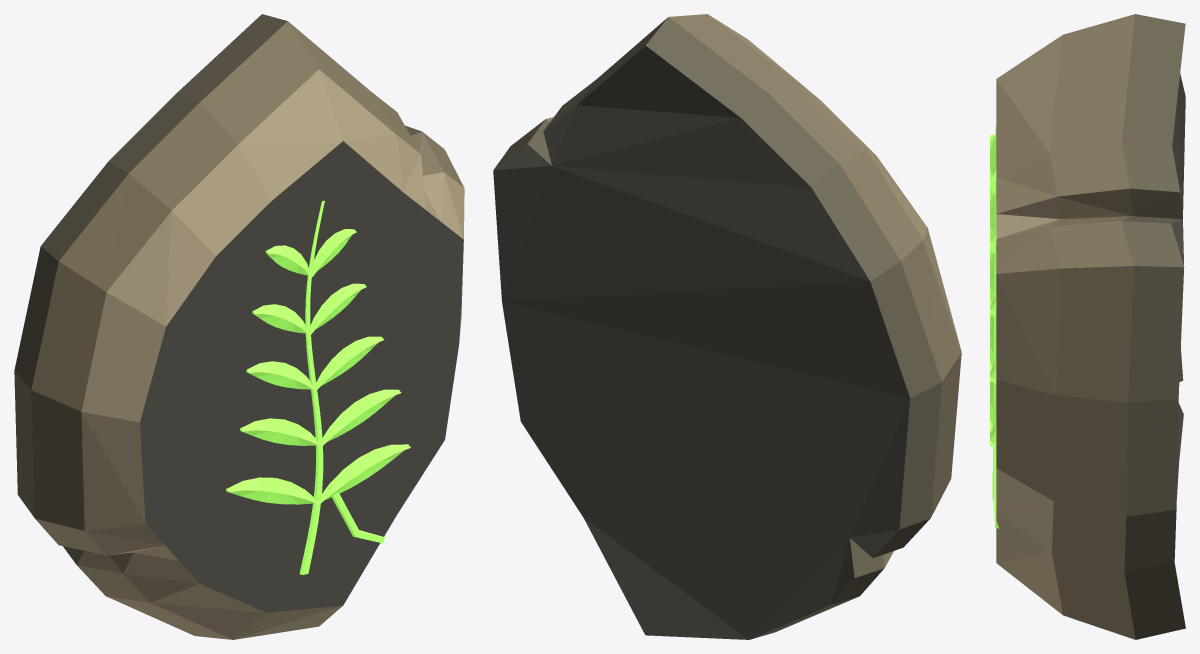
File: FERNSTONE_GREEN.hi.glb
3 renders of one model, left to right at view 1: azimuth 30°, elevation 25°; view 2: azimuth 150°, elevation 25°; view 3: azimuth 270°, elevation 25°, orthographic. The views are drawn at different scales.
Visible parts, largest first — view 1: Body_Mesh; view 2: Body_Mesh; view 3: Body_Mesh.
Part boxes in pixels (x1,y1,x2,y2): Body_Mesh: (14, 14, 464, 639); Body_Mesh: (493, 14, 961, 639); Body_Mesh: (990, 14, 1185, 639).
Size of the model in its own units: 0.2707 by 0.3709 by 0.1052.
1 material, 1 textured.
